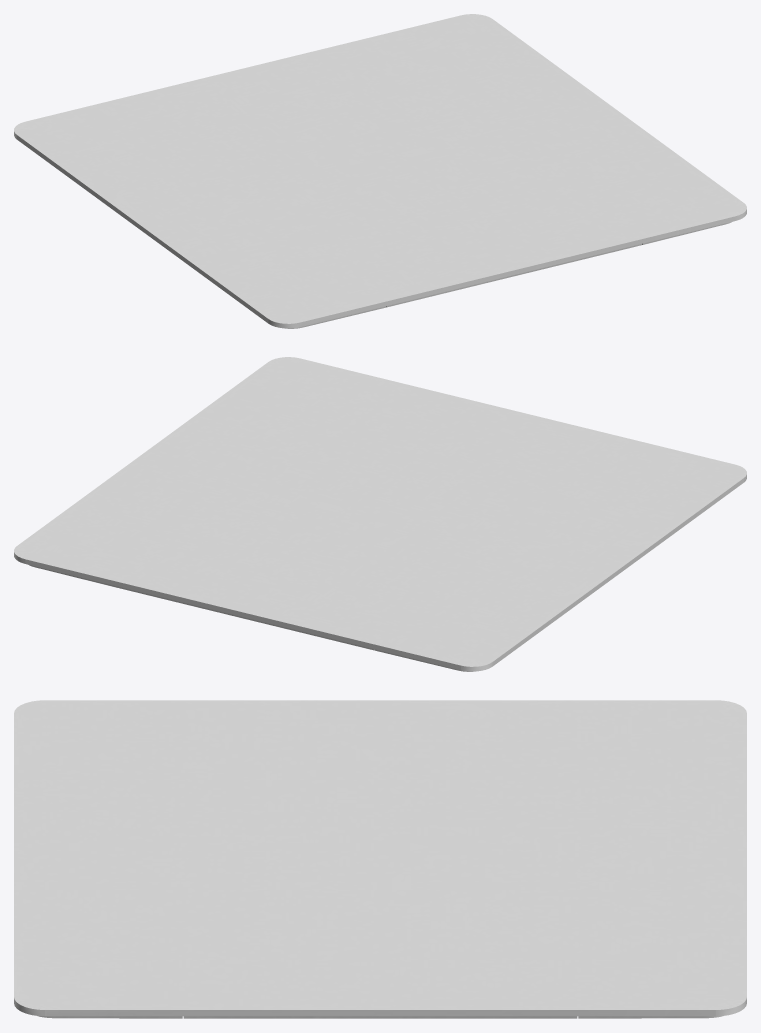
Rendered from aircon07.gltf.
3 views of the same model, one above another, from view 1: azimuth 30°, elevation 25°; view 2: azimuth 150°, elevation 25°; view 3: azimuth 270°, elevation 25° (orthographic). The views are drawn at different scales.
Visible parts, largest first — view 1: 立方体; view 2: 立方体; view 3: 立方体.
Part boxes in pixels (box(x1,y1,x2,y2)): 立方体: box(14, 14, 746, 328); 立方体: box(14, 357, 746, 671); 立方体: box(14, 700, 746, 1018).
Size of the model in its own units: 0.95 by 0.0403 by 0.95.
Materials: 1 (1 with a texture image).
